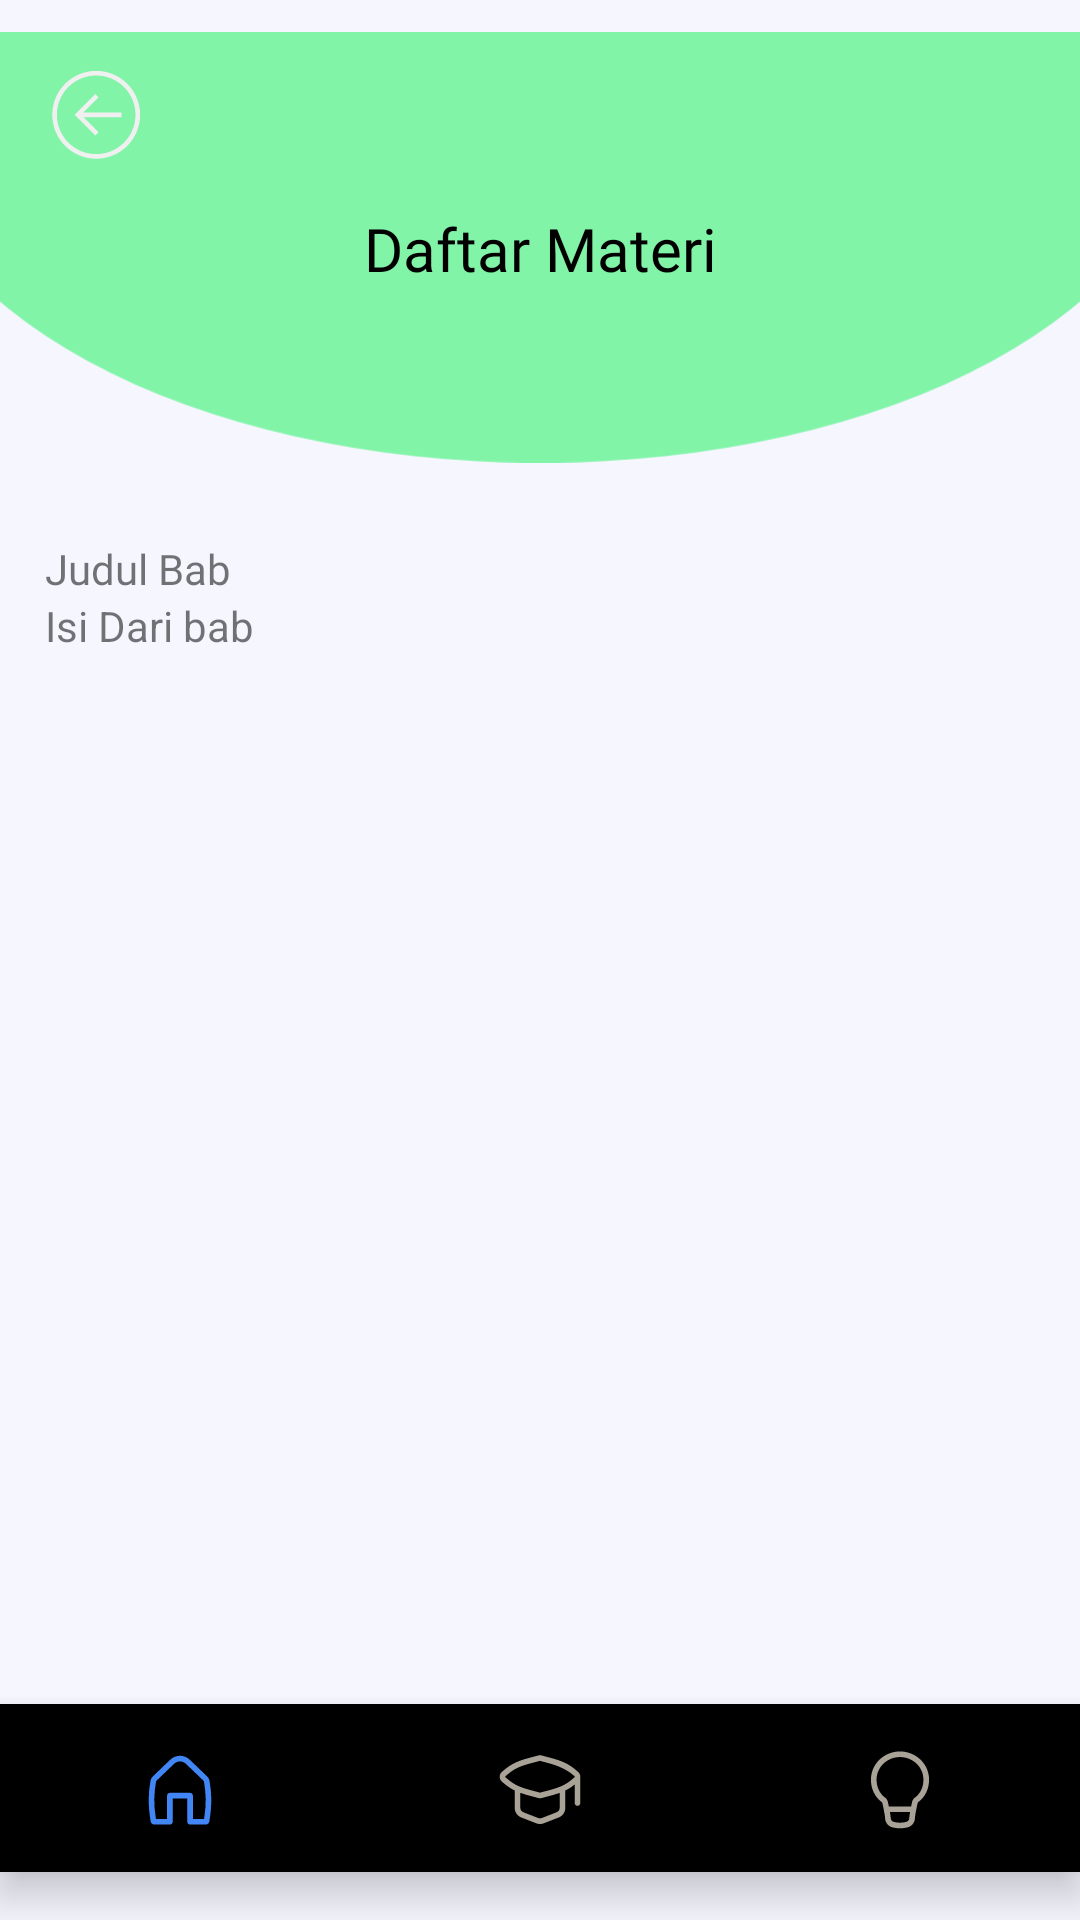

Point at icon controls on the screen. Image size 1080px×1920px, points as point (x, y).
back: point (96, 115)
